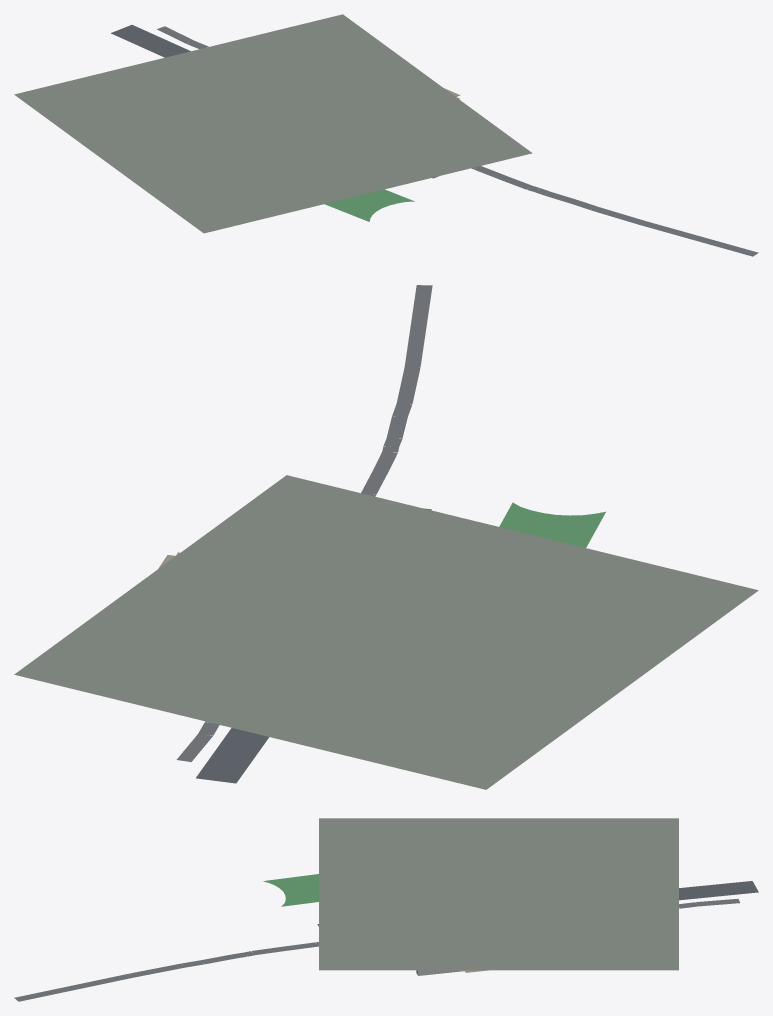
3 views of the same model, one above another, from view 1: azimuth 30°, elevation 25°; view 2: azimuth 150°, elevation 25°; view 3: azimuth 270°, elevation 25° (orthographic). The views are drawn at different scales.
Bounding box in the file's own units: 154 × 12.02 × 265.
